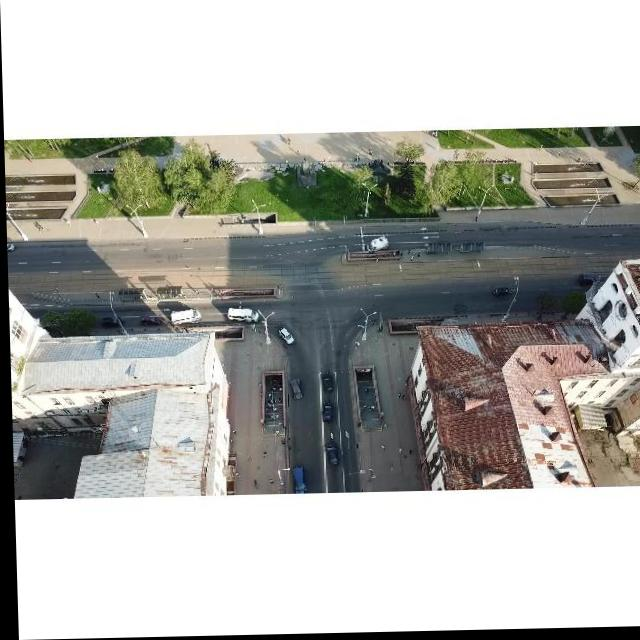vehicle: (168, 309, 199, 326), (226, 308, 257, 323), (34, 320, 59, 335), (364, 239, 388, 254), (289, 468, 302, 494), (323, 444, 336, 469), (276, 329, 294, 347), (287, 379, 301, 401), (577, 277, 599, 289), (319, 401, 330, 424), (319, 374, 331, 395), (491, 289, 511, 300), (100, 317, 121, 327), (137, 317, 160, 326)
